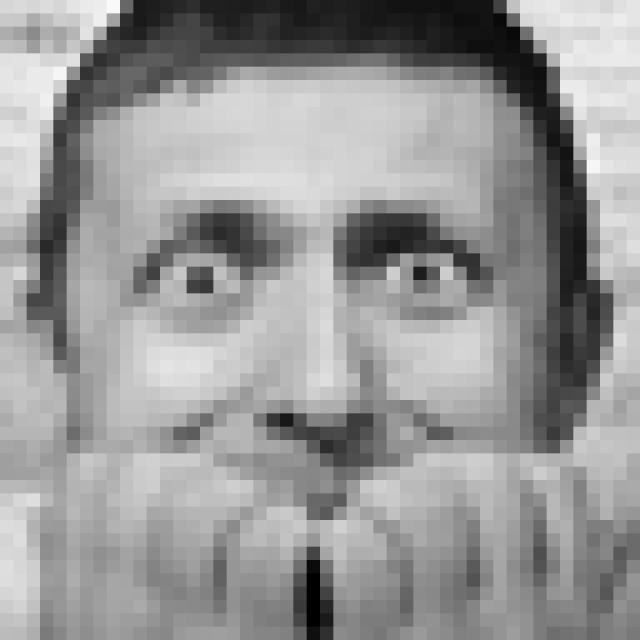fear: (105, 193, 507, 586)
